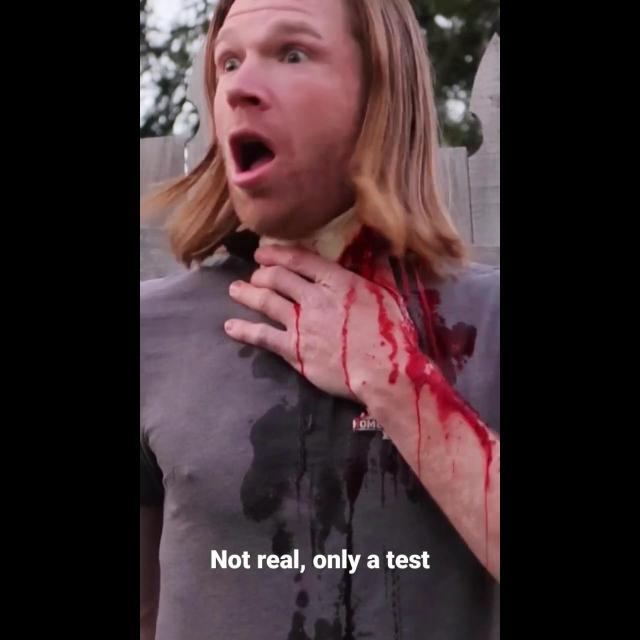blood: (339, 226, 500, 547), (337, 282, 358, 401), (293, 302, 306, 378), (332, 370, 339, 391)
